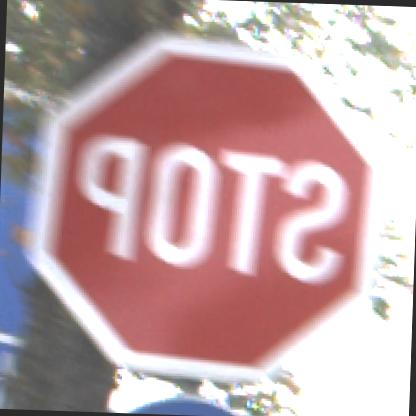stop: (9, 22, 414, 391)
